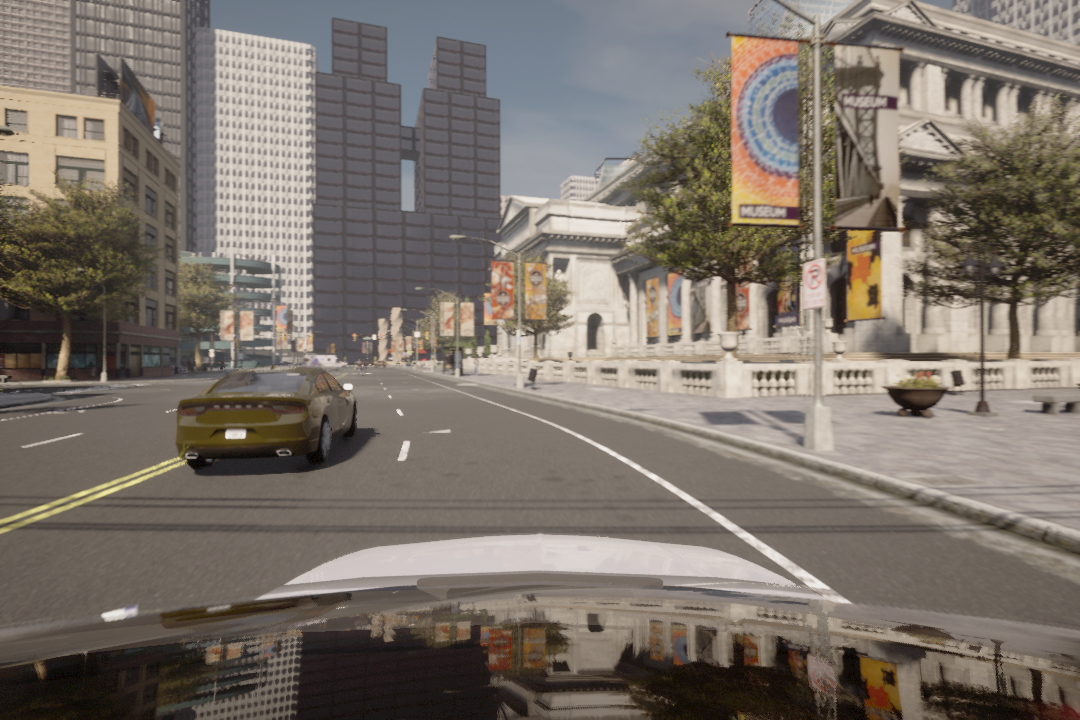TrafficSign_nstop: (801, 261, 828, 314)
